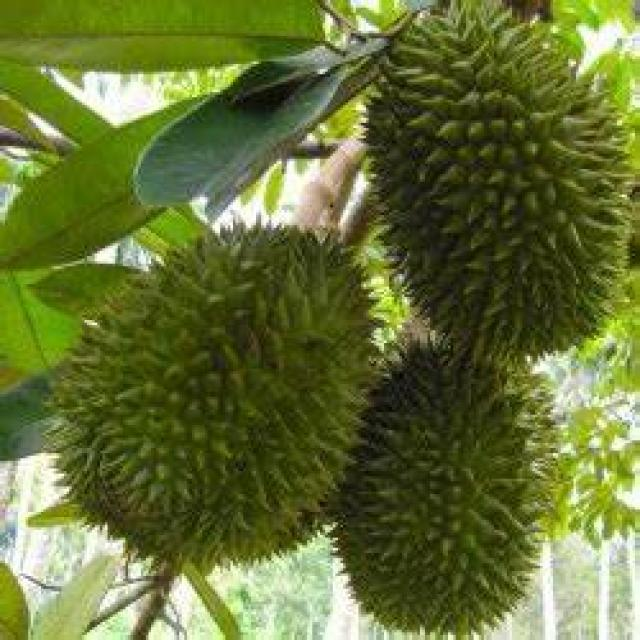immature: (47, 210, 381, 570), (354, 0, 631, 362), (323, 336, 557, 637)
